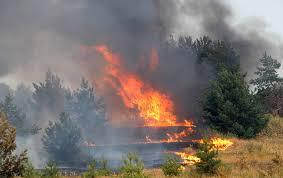fire: (88, 45, 192, 144), (142, 119, 230, 173)
yanwu: (0, 1, 162, 164)
